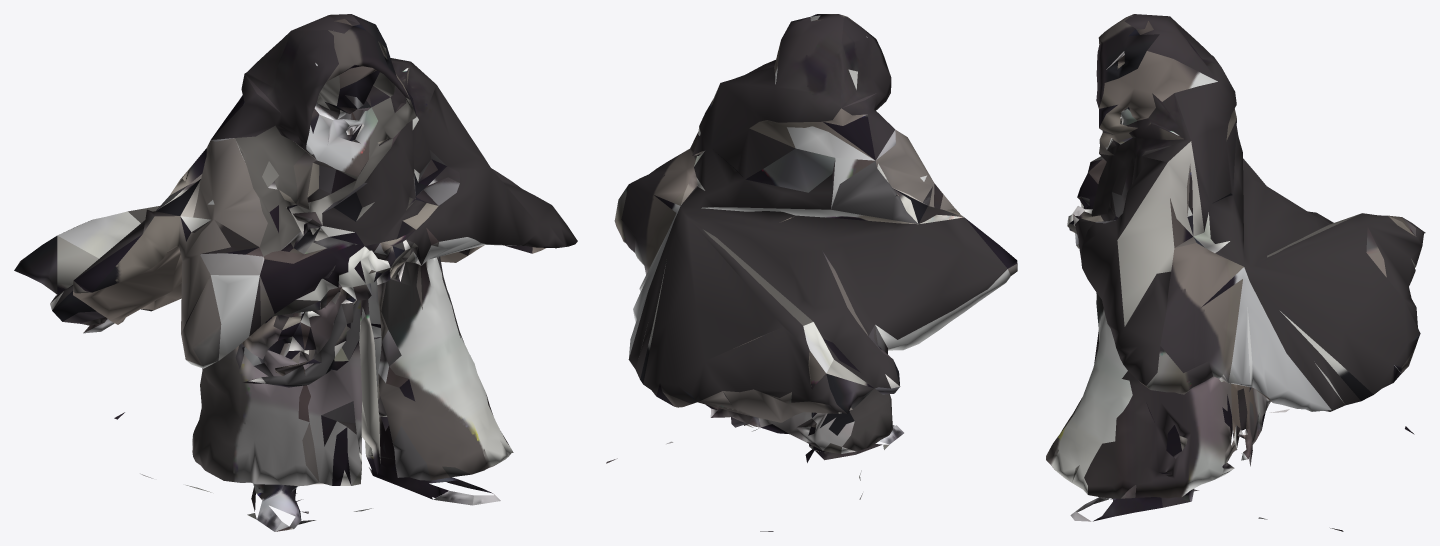
The model's file is circle_savant.glb.
3 views of the same model, side by side, from view 1: azimuth 30°, elevation 25°; view 2: azimuth 150°, elevation 25°; view 3: azimuth 270°, elevation 25° (orthographic). The views are drawn at different scales.
Visible parts, largest first — view 1: LP_baked; view 2: LP_baked; view 3: LP_baked.
Part boxes in pixels (<box>): LP_baked: <box>14,14,577,531</box>; LP_baked: <box>606,14,1017,531</box>; LP_baked: <box>1046,14,1425,531</box>.
Bounding box in the file's own units: 1.94 × 1.85 × 1.42.
1 material, 1 textured.
